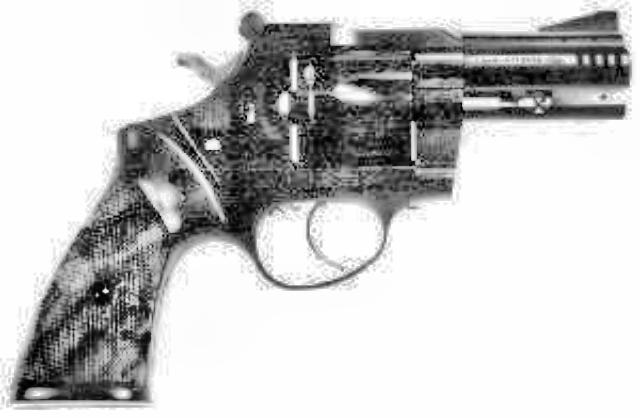pistol: (5, 7, 623, 403)
